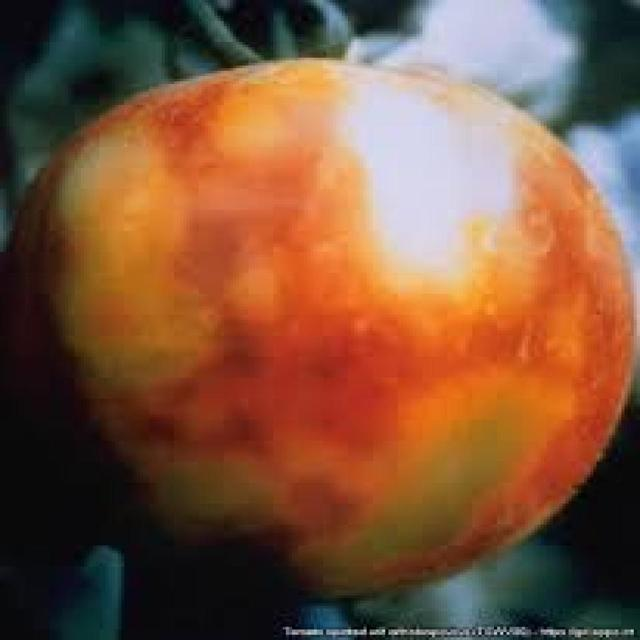Spotted wilt Virus Fruit: (18, 35, 28, 199)
